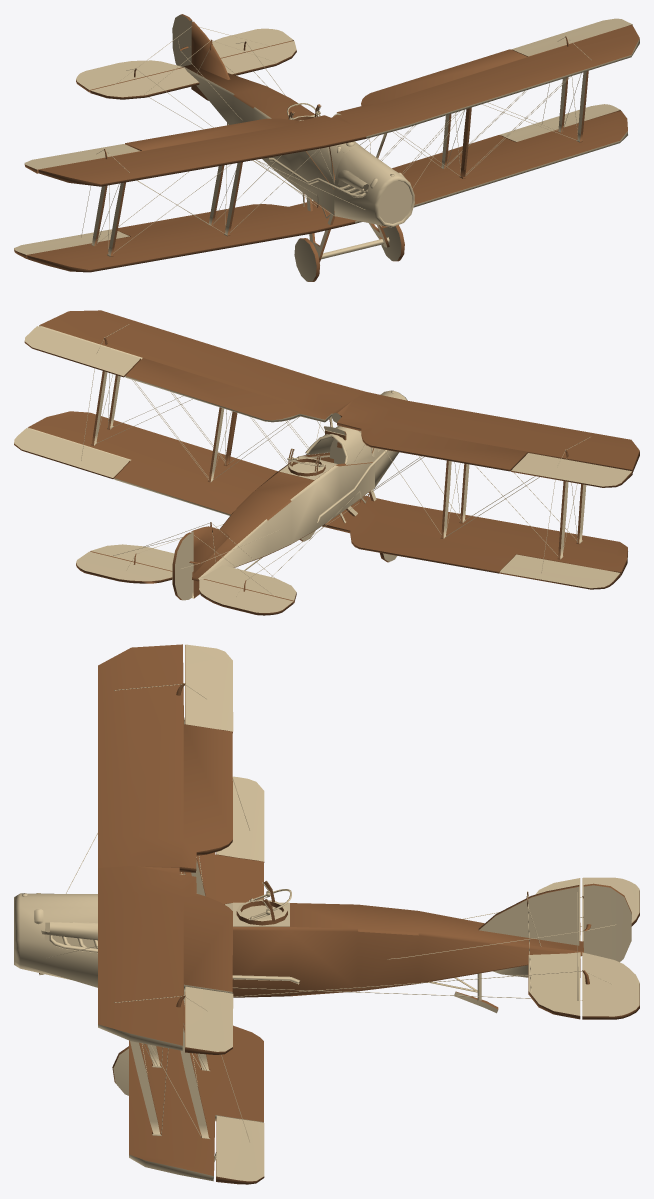
Rendered from aircraft.glb.
3 renders of one model, top to bottom at view 1: azimuth 30°, elevation 25°; view 2: azimuth 150°, elevation 25°; view 3: azimuth 270°, elevation 25°, orthographic. The views are drawn at different scales.
Visible parts, largest first — view 1: Object_2, Object_3; view 2: Object_2, Object_3; view 3: Object_2, Object_3.
Part boxes in pixels (x1=…): Object_2: x1=14, y1=14, x2=639, y2=281; Object_3: x1=14, y1=14, x2=639, y2=281; Object_2: x1=14, y1=310, x2=639, y2=615; Object_3: x1=14, y1=324, x2=631, y2=612; Object_2: x1=39, y1=644, x2=639, y2=1184; Object_3: x1=14, y1=644, x2=639, y2=1181.
Bounding box in the file's own units: 118 × 31.6 × 77.28.
